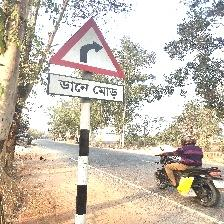Right-turn: (47, 16, 127, 103)
